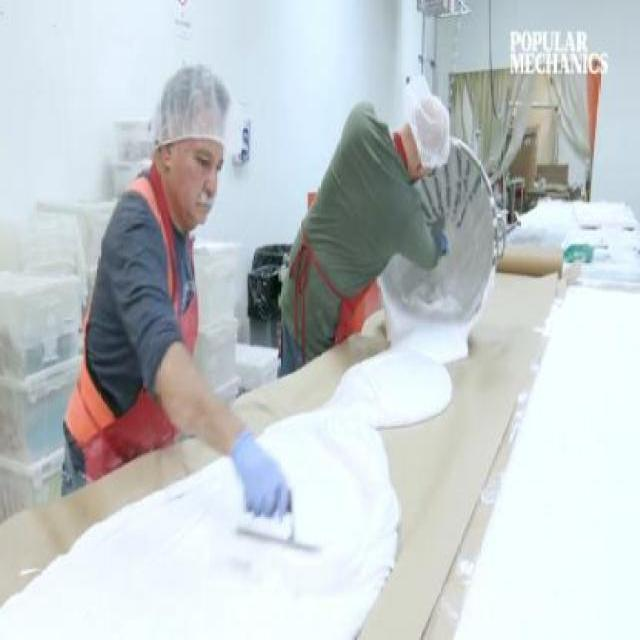gloved_hand: (216, 421, 306, 544), (433, 226, 452, 269)
